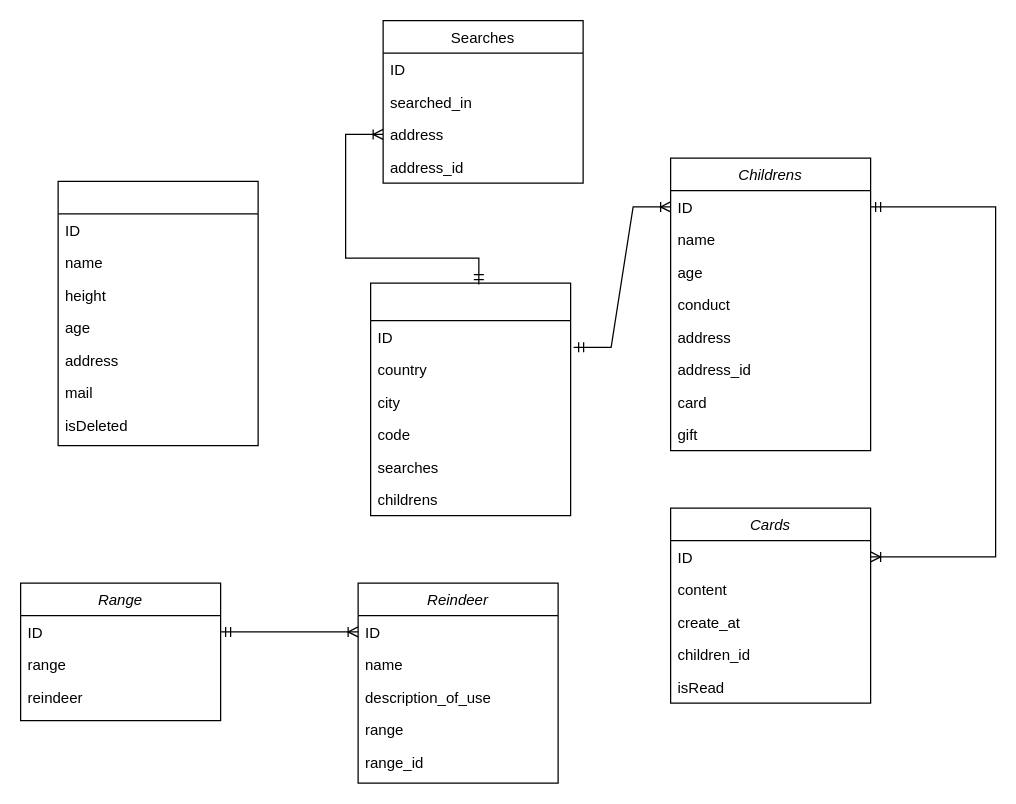
Image size: 1016x804. Some labels were removed from this diagram. Here are the shapes that lost their labels. From the top down, the box of each, then its label:
(57, 180, 258, 446): Elves
(369, 282, 571, 516): Addresse
